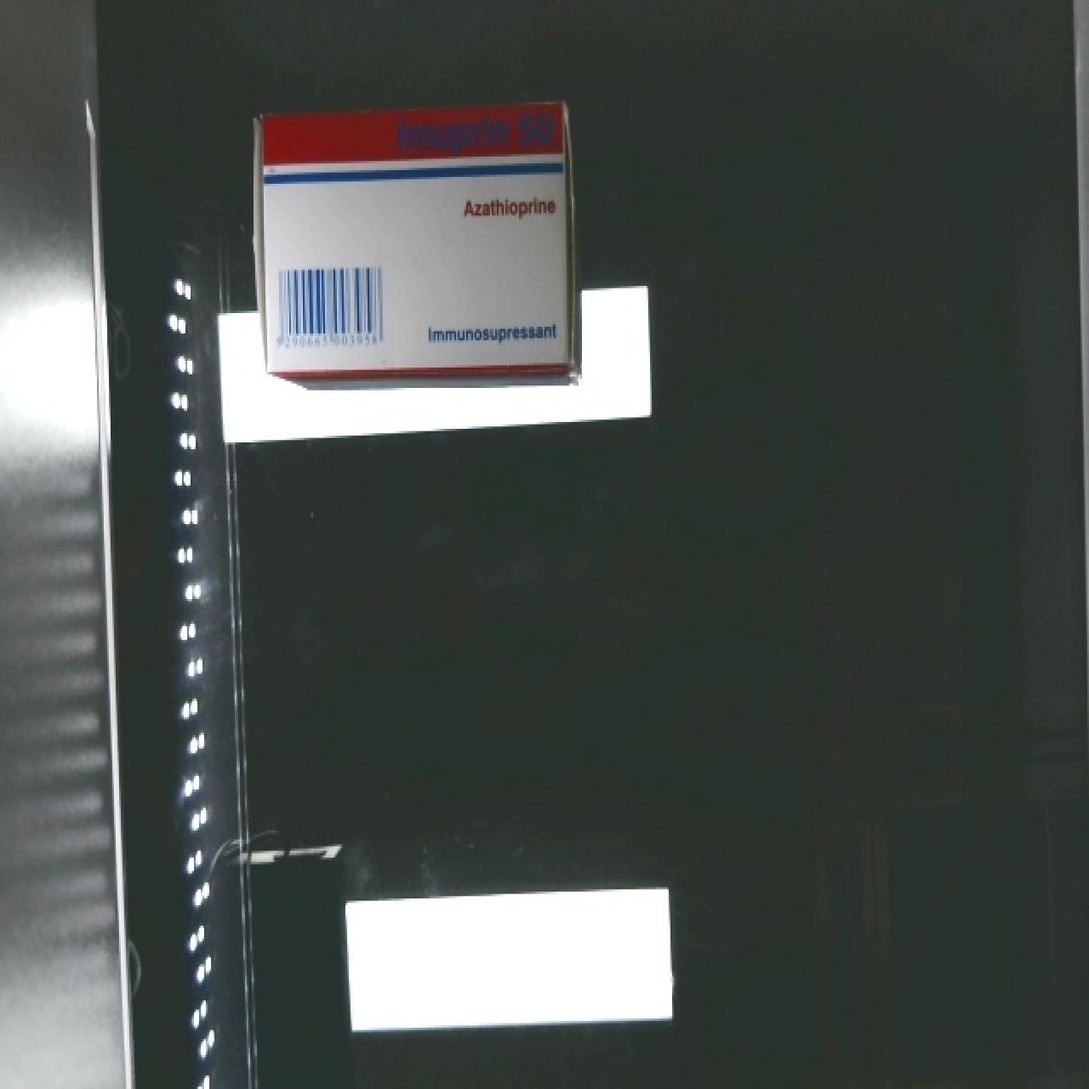medicine_label_obb: (373, 102, 571, 169)
